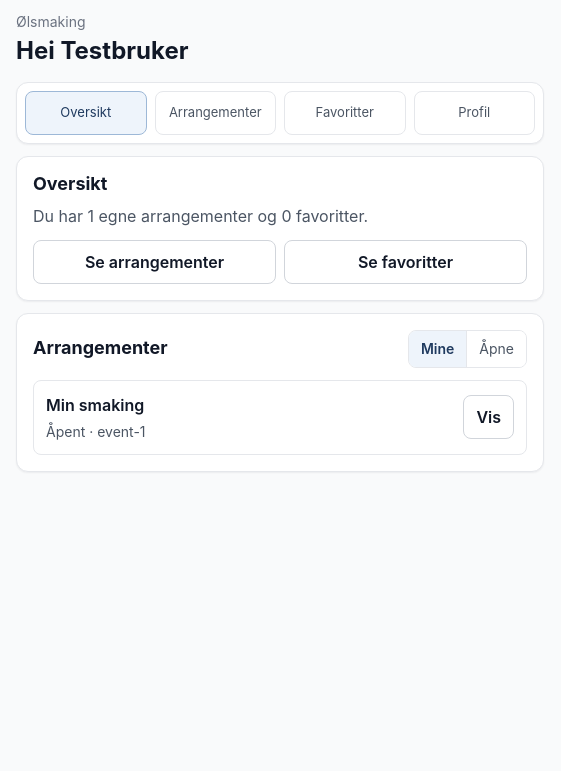
Test case: App core flows › hydrates my events and shows open discovery filter
Click the button "Arrangementer" at (215, 113), box 154,91 -> 276,135
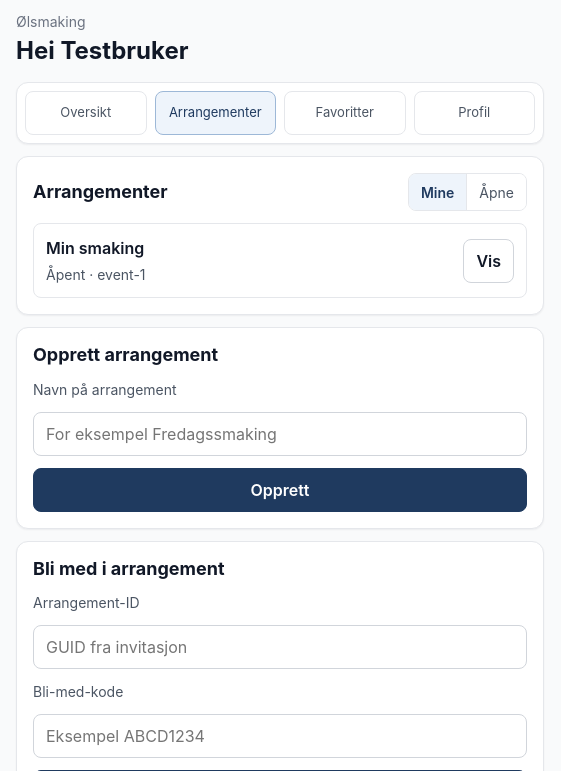
Expected: the text "Min smaking" is shown, 46,236 -> 146,260
Click the tab "Åpne" at (497, 192), box 467,174 -> 526,210
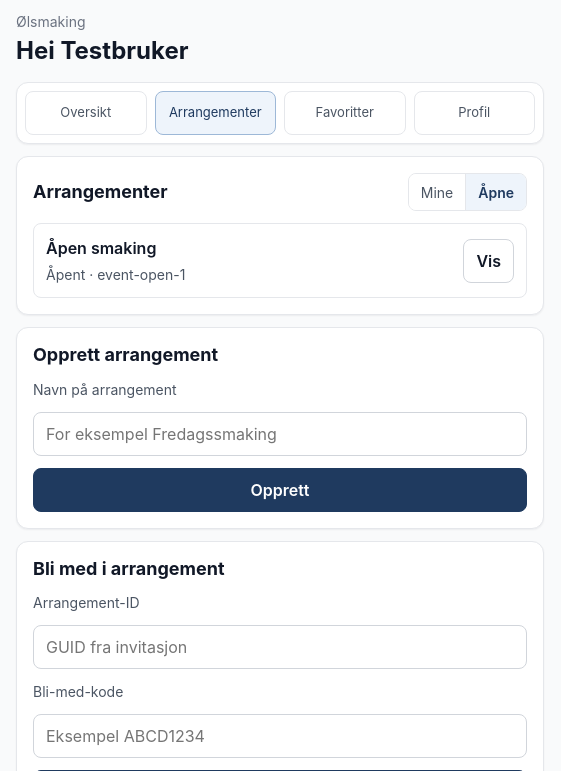
Expected: the text "Åpen smaking" is shown, 46,238 -> 156,258
